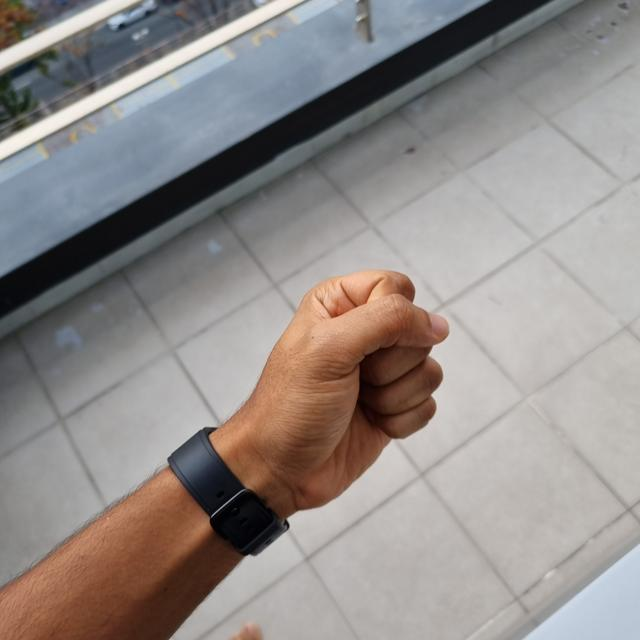Rock: (216, 270, 446, 508)
